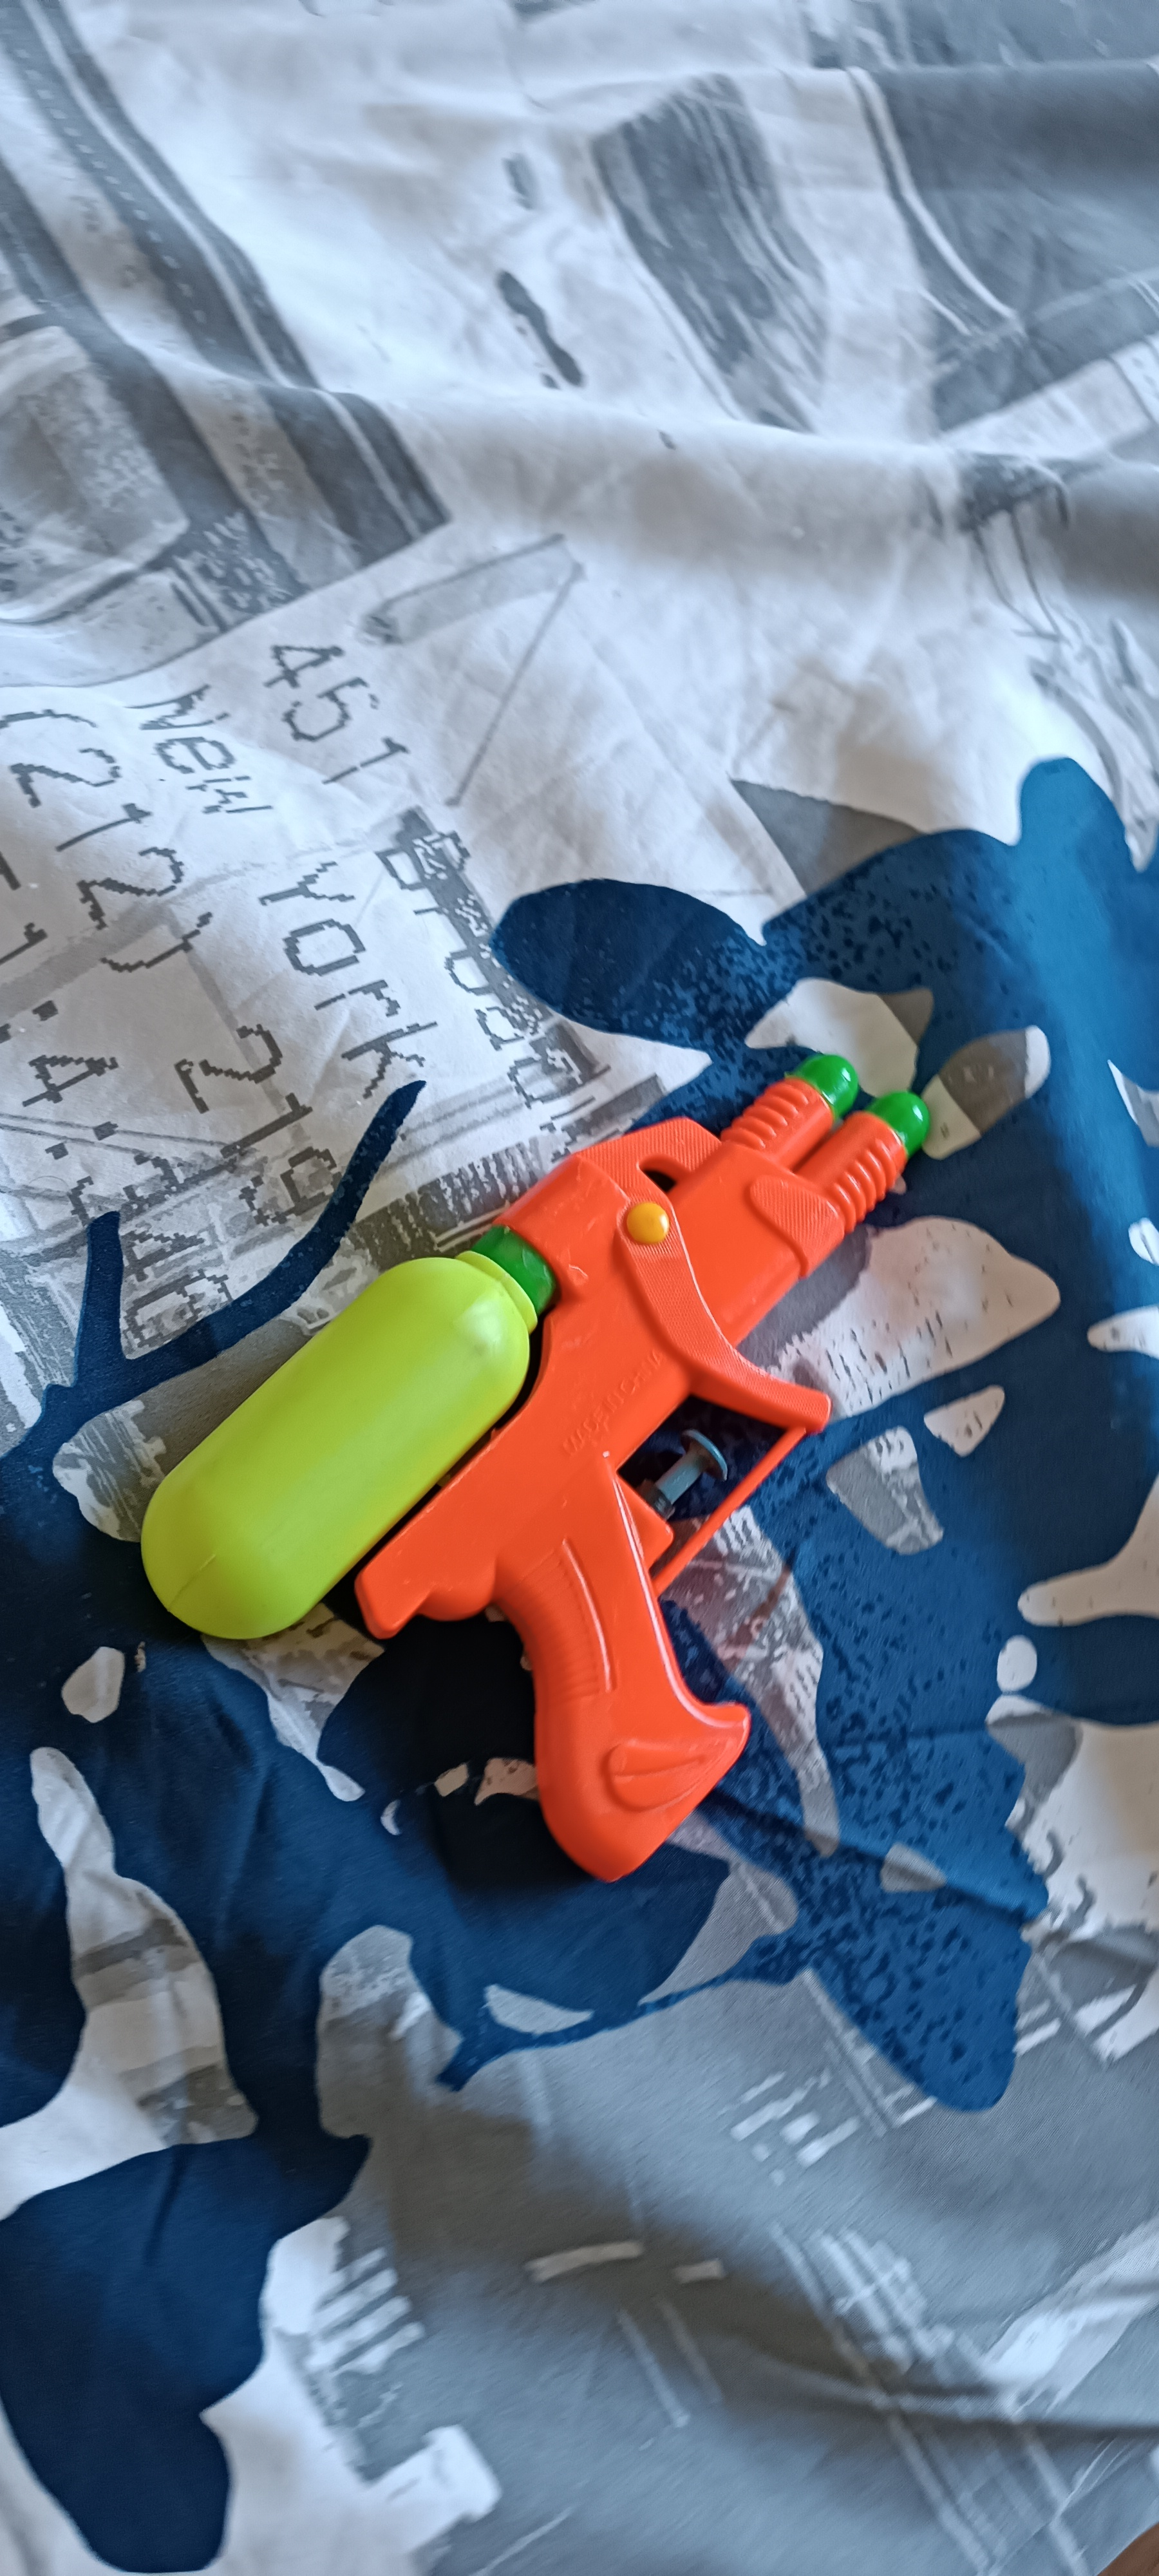Water Gun: (141, 1051, 929, 1878)
